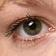eye: (22, 20, 42, 35)
